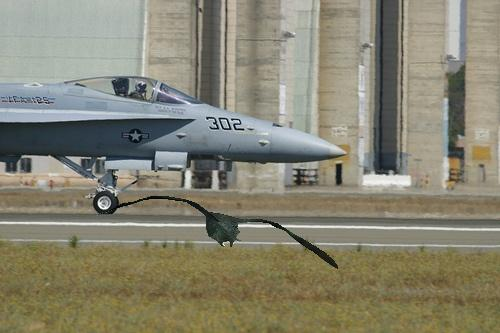tampered: (96, 197, 338, 269)
